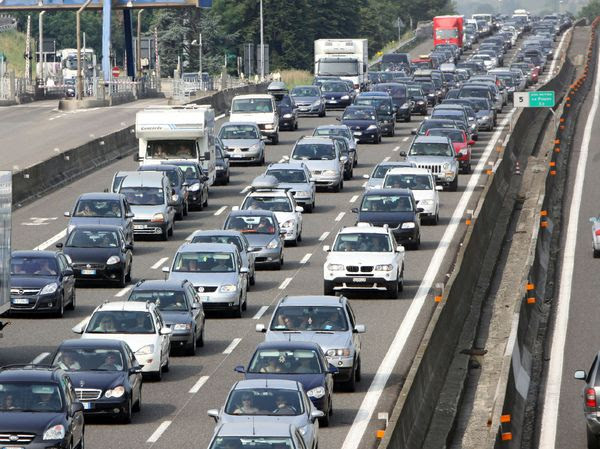car: (44, 289, 157, 421)
